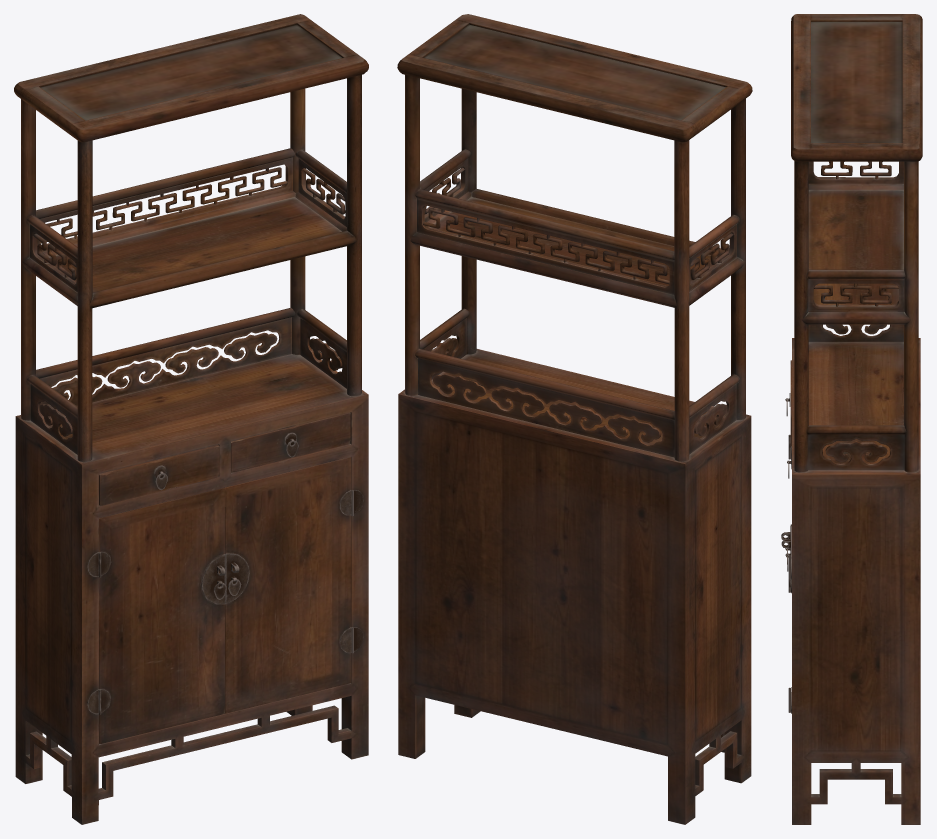
The model's file is chinese_cabinet.glb.
3 renders of one model, left to right at view 1: azimuth 30°, elevation 25°; view 2: azimuth 150°, elevation 25°; view 3: azimuth 270°, elevation 25°, orthographic. The views are drawn at different scales.
Visible parts, largest first — view 1: chinese_cabinet; view 2: chinese_cabinet; view 3: chinese_cabinet.
Part boxes in pixels (box(x1,y1,x2,y2)): chinese_cabinet: box(14, 14, 368, 824); chinese_cabinet: box(397, 14, 752, 824); chinese_cabinet: box(781, 14, 922, 824).
Bounding box in the file's own units: 1.26 × 2.87 × 0.5452.
1 material, 1 textured.
